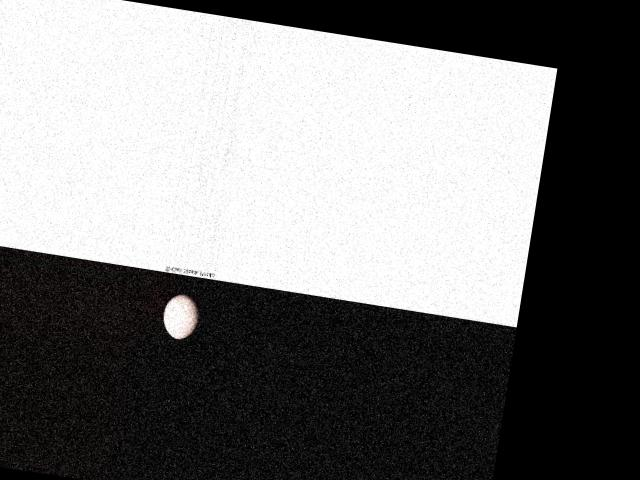egg: (161, 291, 202, 341)
